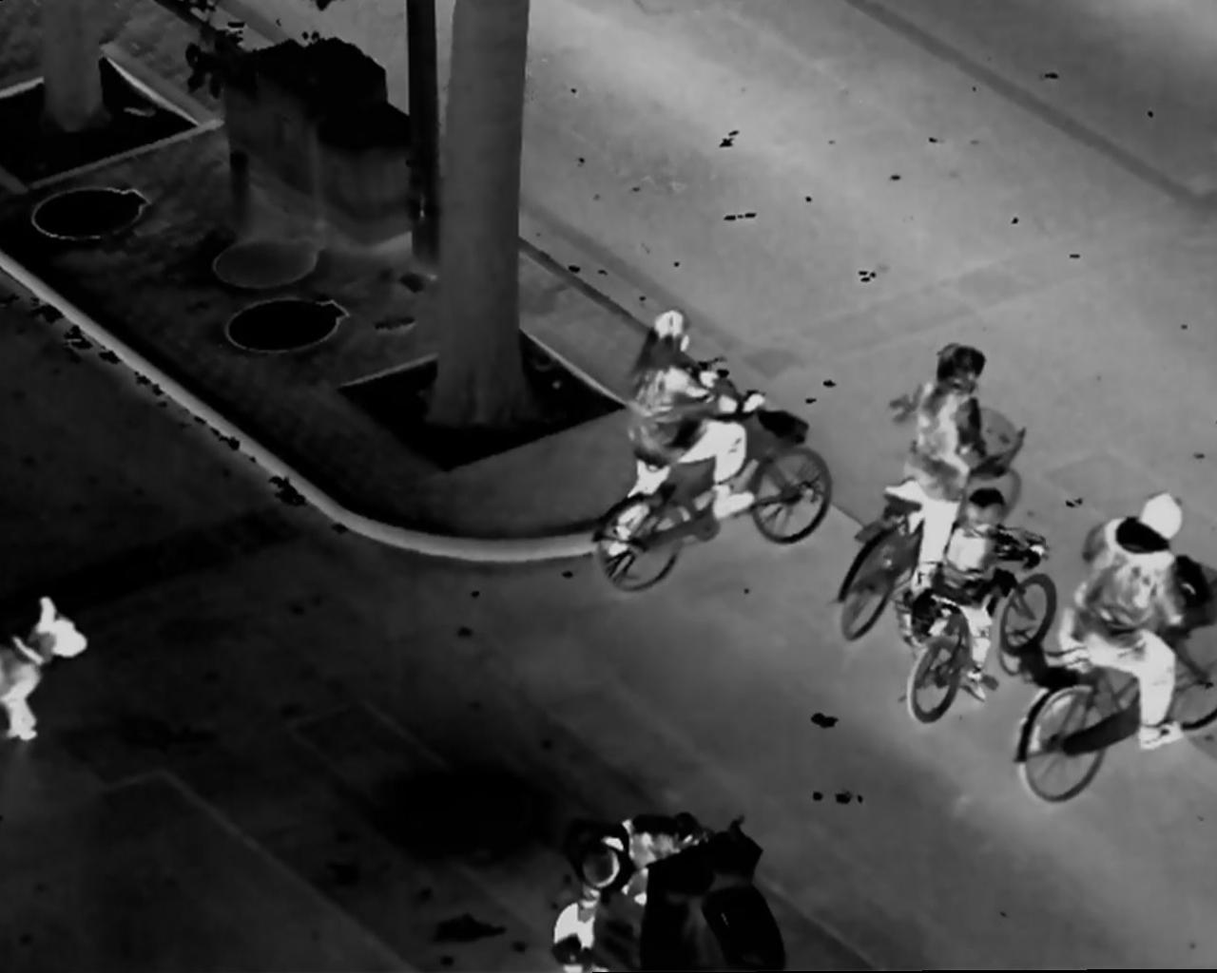person: (606, 307, 767, 569), (1058, 486, 1196, 755), (893, 333, 988, 608), (558, 805, 710, 963), (949, 484, 1042, 696)
